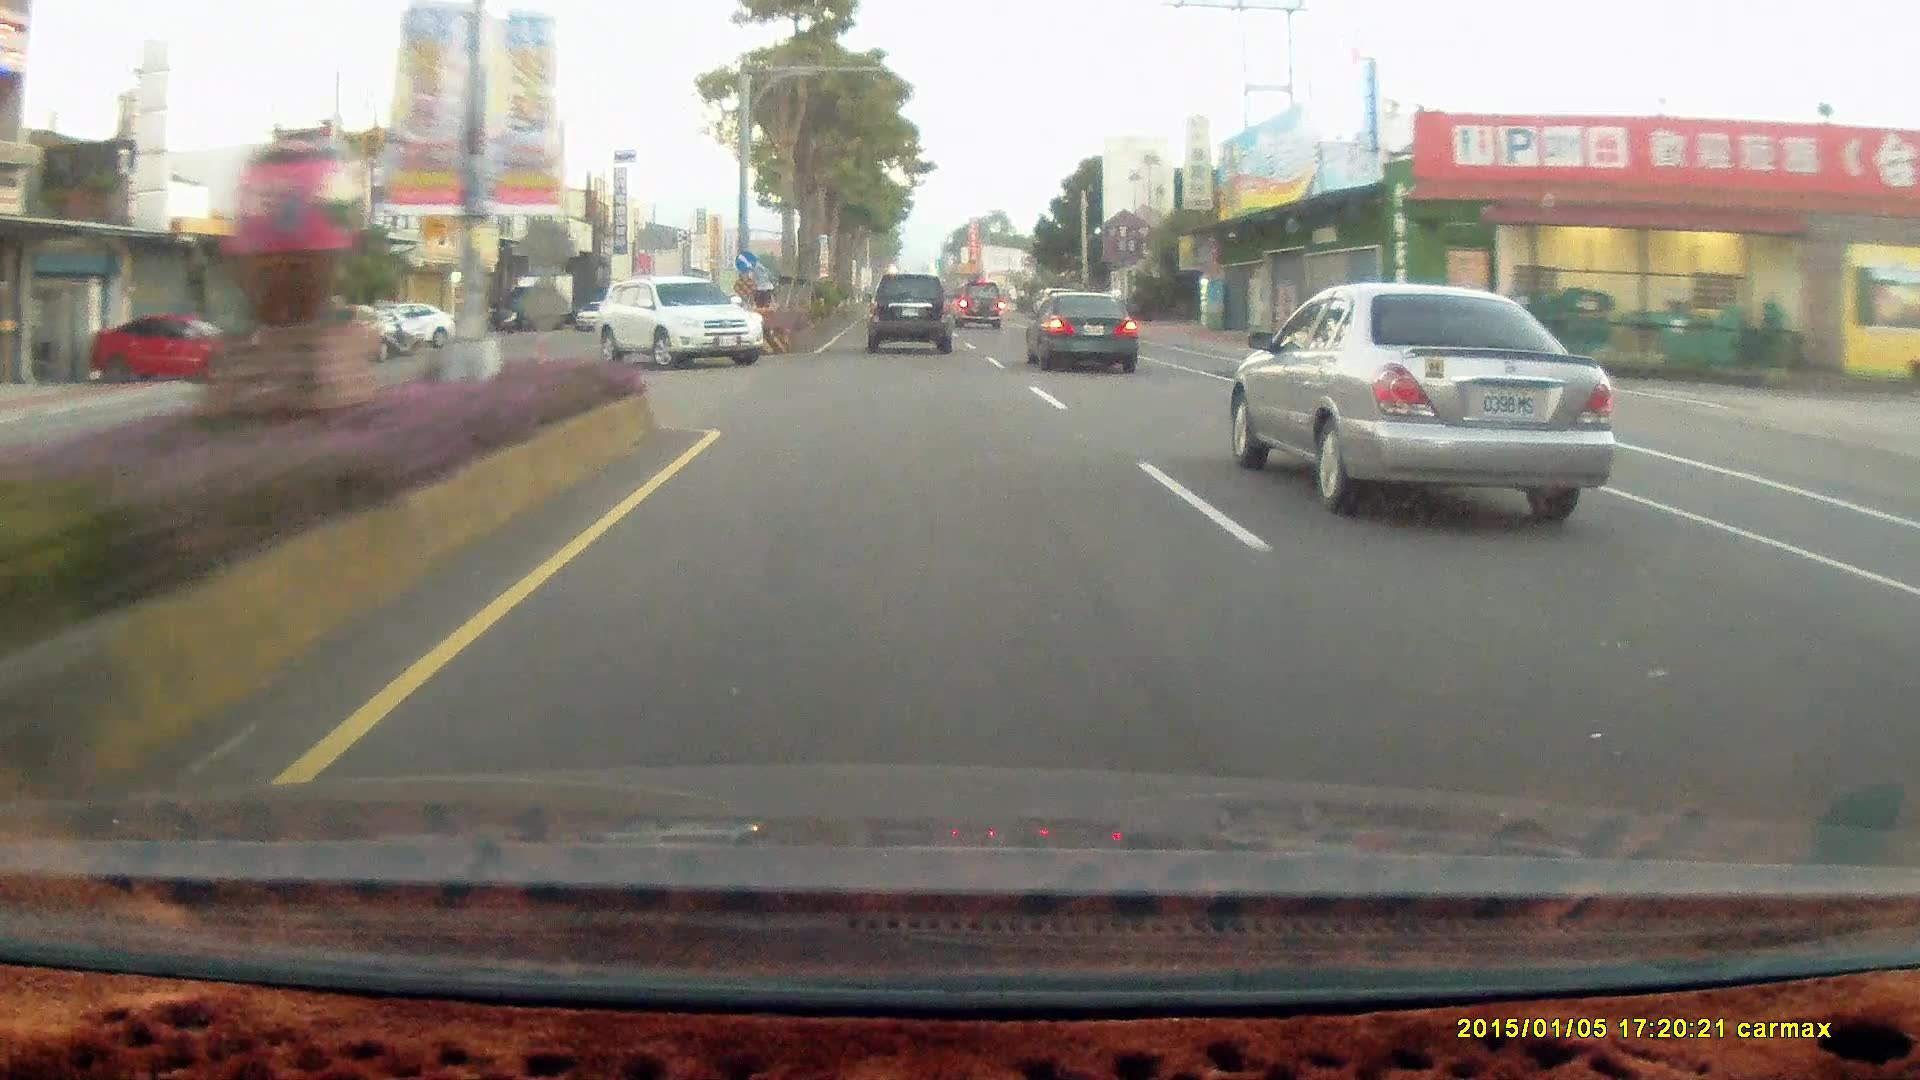vehicle: (1226, 276, 1619, 521), (592, 270, 766, 367), (596, 274, 767, 369), (76, 310, 277, 389), (91, 310, 276, 385), (1025, 286, 1139, 371), (1029, 289, 1139, 376), (866, 274, 960, 356), (287, 302, 388, 368), (866, 273, 951, 351), (355, 301, 455, 348), (953, 280, 1006, 331), (953, 280, 1005, 328)
